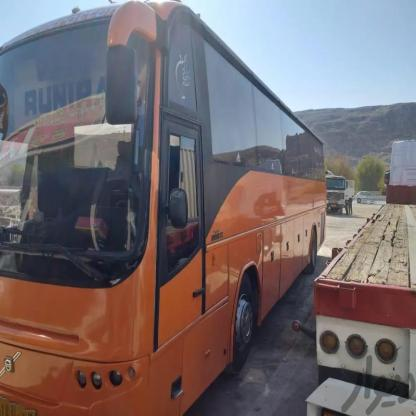Bus: (0, 0, 336, 412)
Truck: (324, 170, 360, 219)
